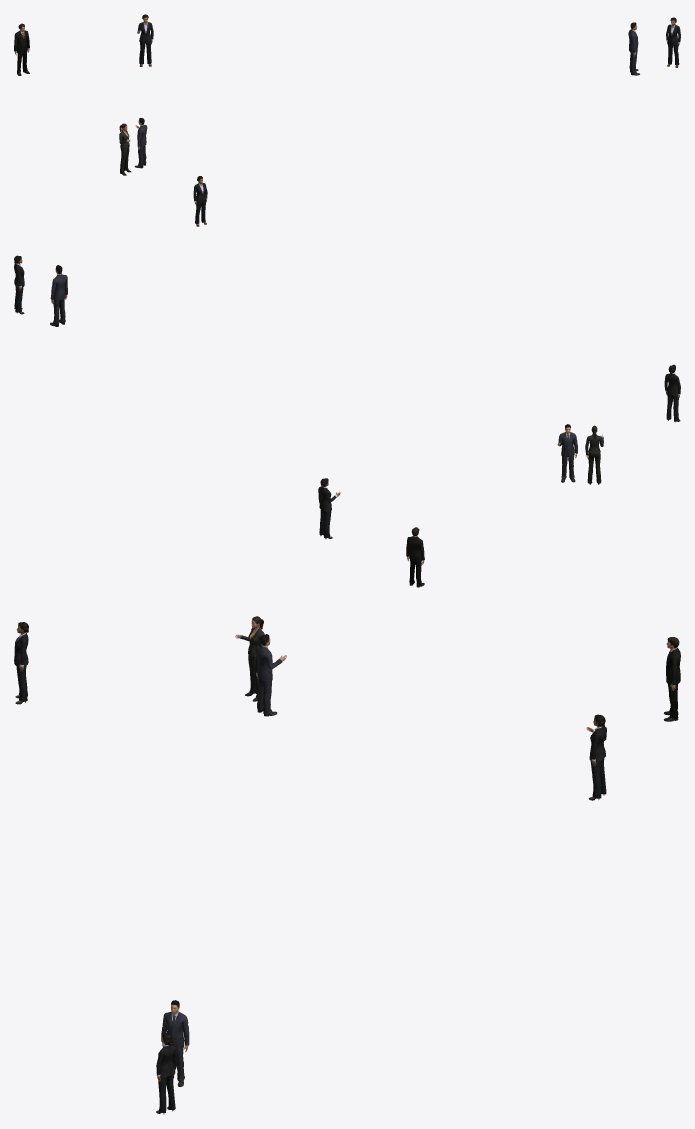
Rendered from grand-anamorphic-visitors.glb.
3 renders of one model, top to bottom at view 1: azimuth 30°, elevation 25°; view 2: azimuth 150°, elevation 25°; view 3: azimuth 270°, elevation 25°, orthographic. The views are drawn at different scales.
Parts seen in each view (by area): view 1: grand-anamorphic-visitors | visitors | Rocketbox | Business_ (×4); view 2: grand-anamorphic-visitors | visitors | Rocketbox | Business_ (×4); view 3: grand-anamorphic-visitors | visitors | Rocketbox | Business_ (×4).
Part boxes in pixels (x1,y1,x2,y2): grand-anamorphic-visitors | visitors | Rocketbox | Business_ (×4): (14, 14, 680, 226); grand-anamorphic-visitors | visitors | Rocketbox | Business_ (×4): (14, 255, 680, 587); grand-anamorphic-visitors | visitors | Rocketbox | Business_ (×4): (14, 616, 680, 1114).
Bounding box in the file's own units: 20.22 × 1.83 × 13.45.
Materials: 12 (12 with a texture image).
